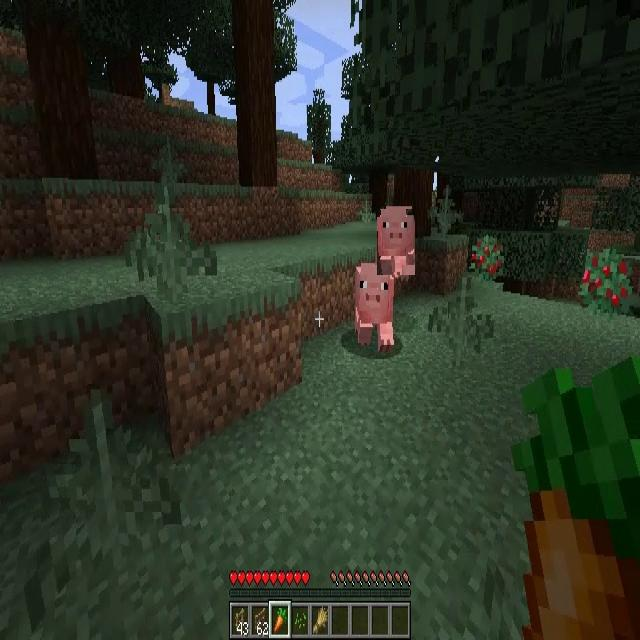pig: (354, 262, 394, 352), (377, 209, 415, 275)
